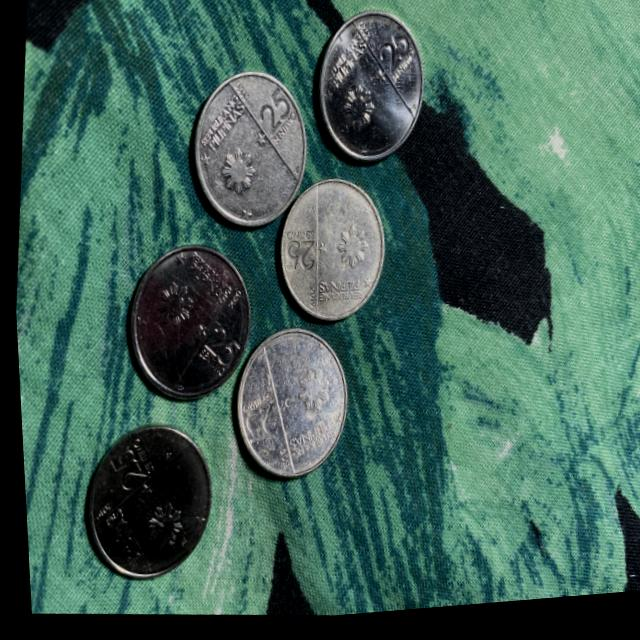25Cent_New_Front: (374, 30, 412, 80), (200, 325, 240, 371), (104, 446, 145, 490), (254, 90, 290, 138), (241, 406, 276, 446), (281, 238, 315, 278)
